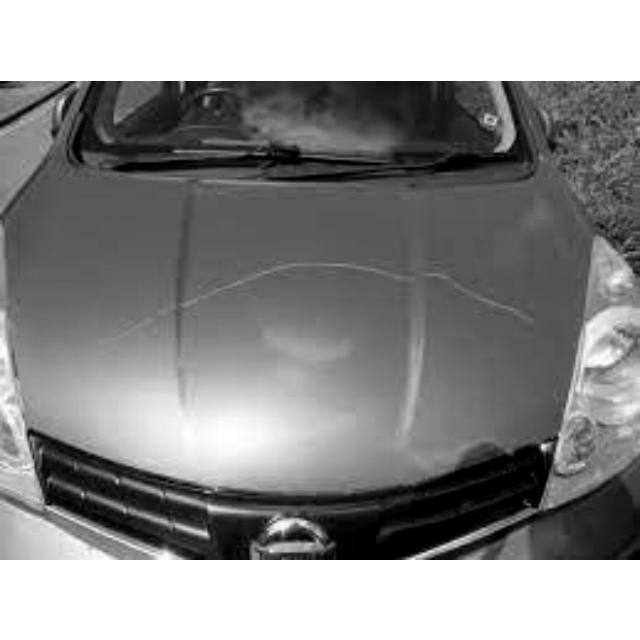bonnet-dent: (30, 204, 590, 510)
